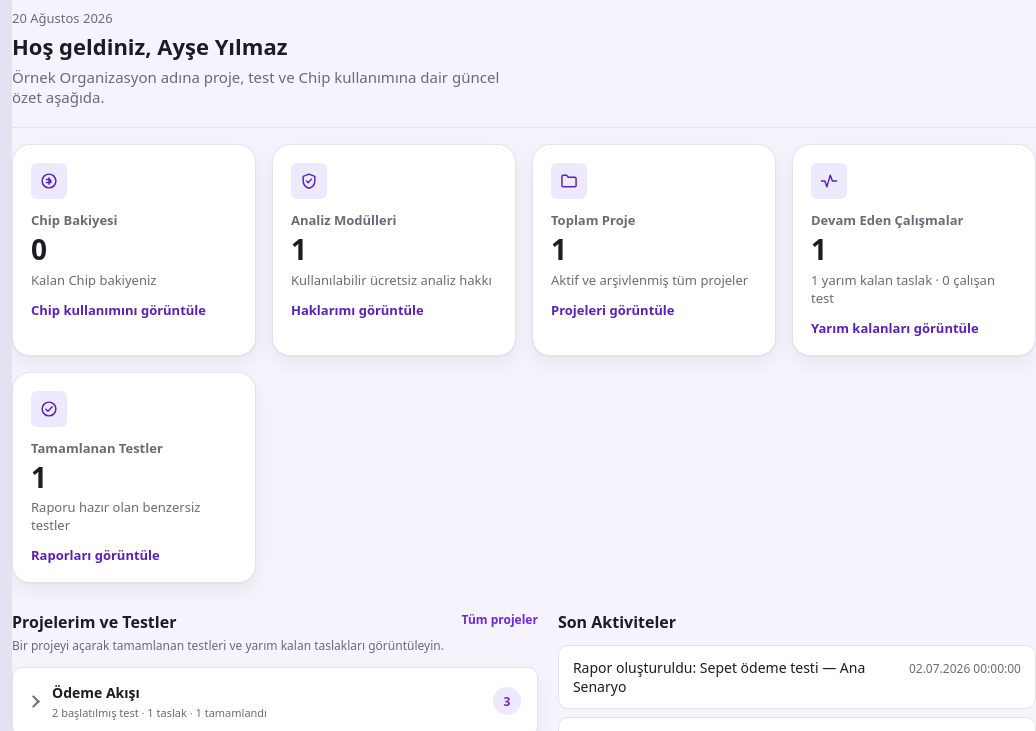
Test: Dashboard › projeyi acinca tamamlanan ve yarim kalan testleri gosterir
Click the heading "Ödeme Akışı" at point(96, 692), box [52,683,521,720]
(page scrolled)
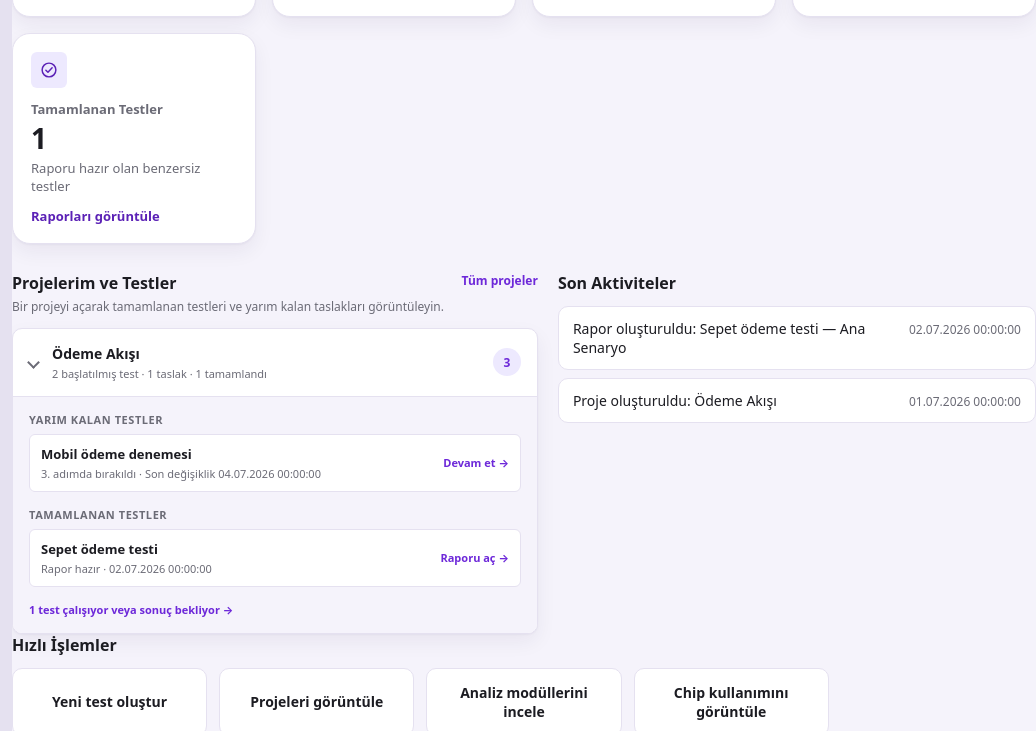
Expected: the heading "Yarım kalan testler" is shown, [29,412,163,427]
Expected: the text "Mobil ödeme denemesi" is shown, [41,445,192,463]
Expected: the text "3. adımda bırakıldı · Son değişiklik 04.07.2026 00:00:00" is shown, [41,466,321,481]
